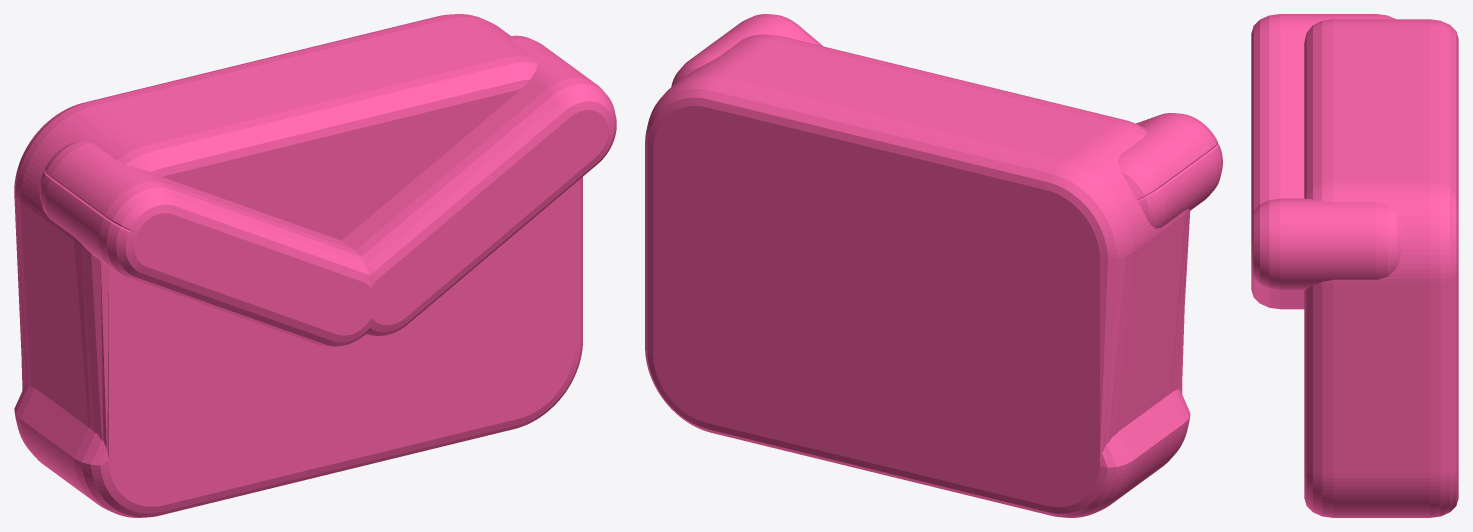
Rendered from poplur_clay_mail_navigator.glb.
The picture shows the model from 3 angles, left to right: view 1: azimuth 30°, elevation 25°; view 2: azimuth 150°, elevation 25°; view 3: azimuth 270°, elevation 25°; orthographic projection. The views are drawn at different scales.
Size of the model in its own units: 2.2 by 1.51 by 0.8599.
